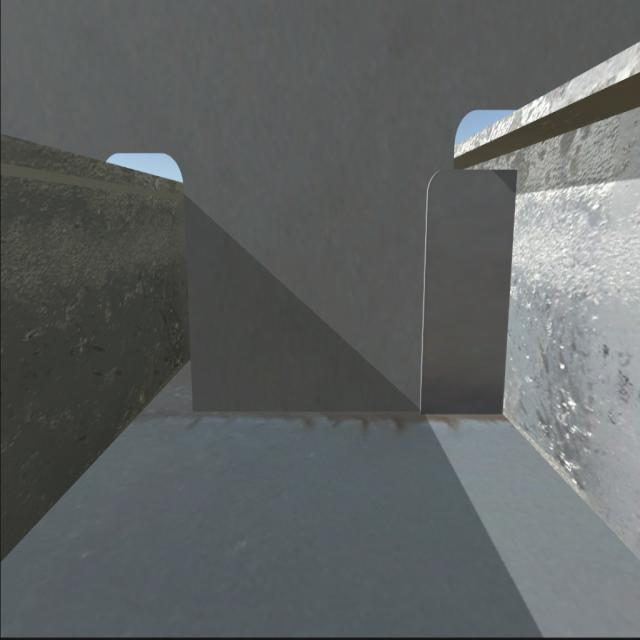fillet_yong_jeop_jang: (191, 407, 508, 420)
longi_yong_jeop_jang: (498, 168, 509, 416)
plate_CP05: (423, 164, 517, 413)
